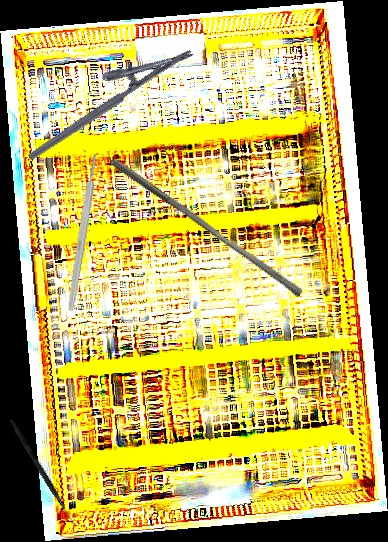Hook Surgical: (7, 418, 79, 528)
Needle Holder: (12, 26, 195, 162)
Pusher: (103, 156, 309, 298)
Scalpel Handle: (66, 153, 100, 312)
